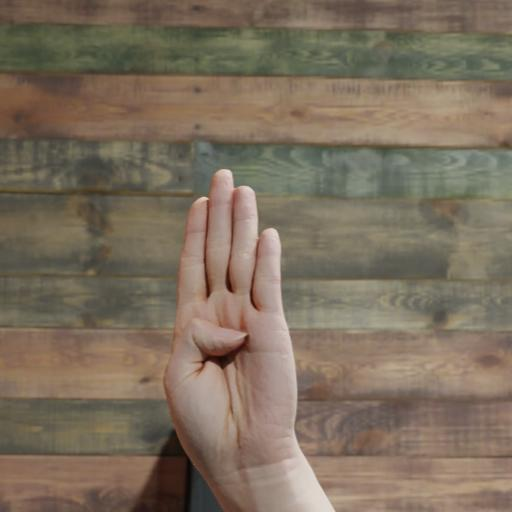A: (139, 158, 343, 488)
